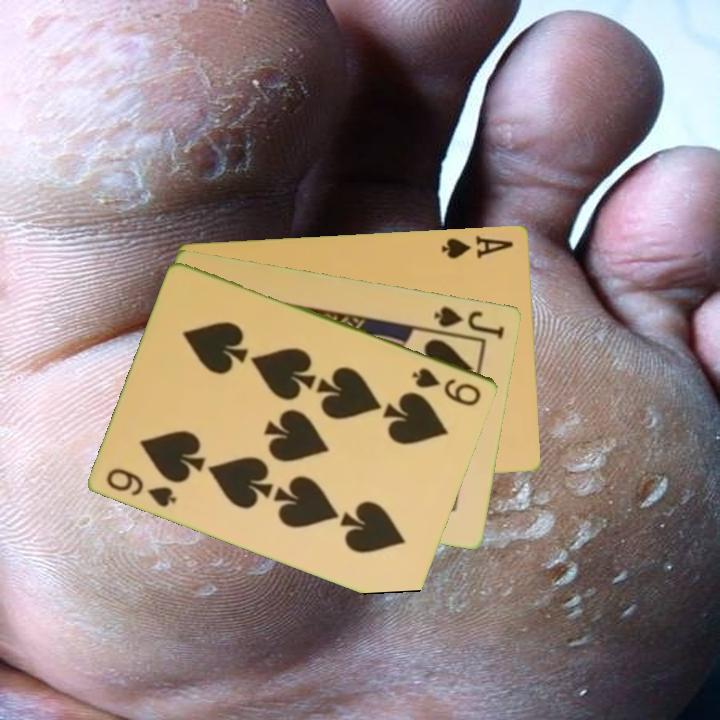9s: (103, 464, 180, 511), (409, 363, 485, 409)
As: (438, 231, 517, 261)
Js: (430, 302, 508, 341)
